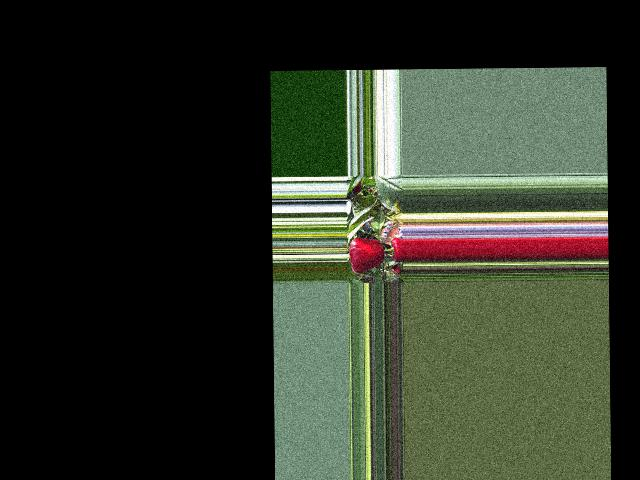bell_pepper: (389, 235, 404, 263)
